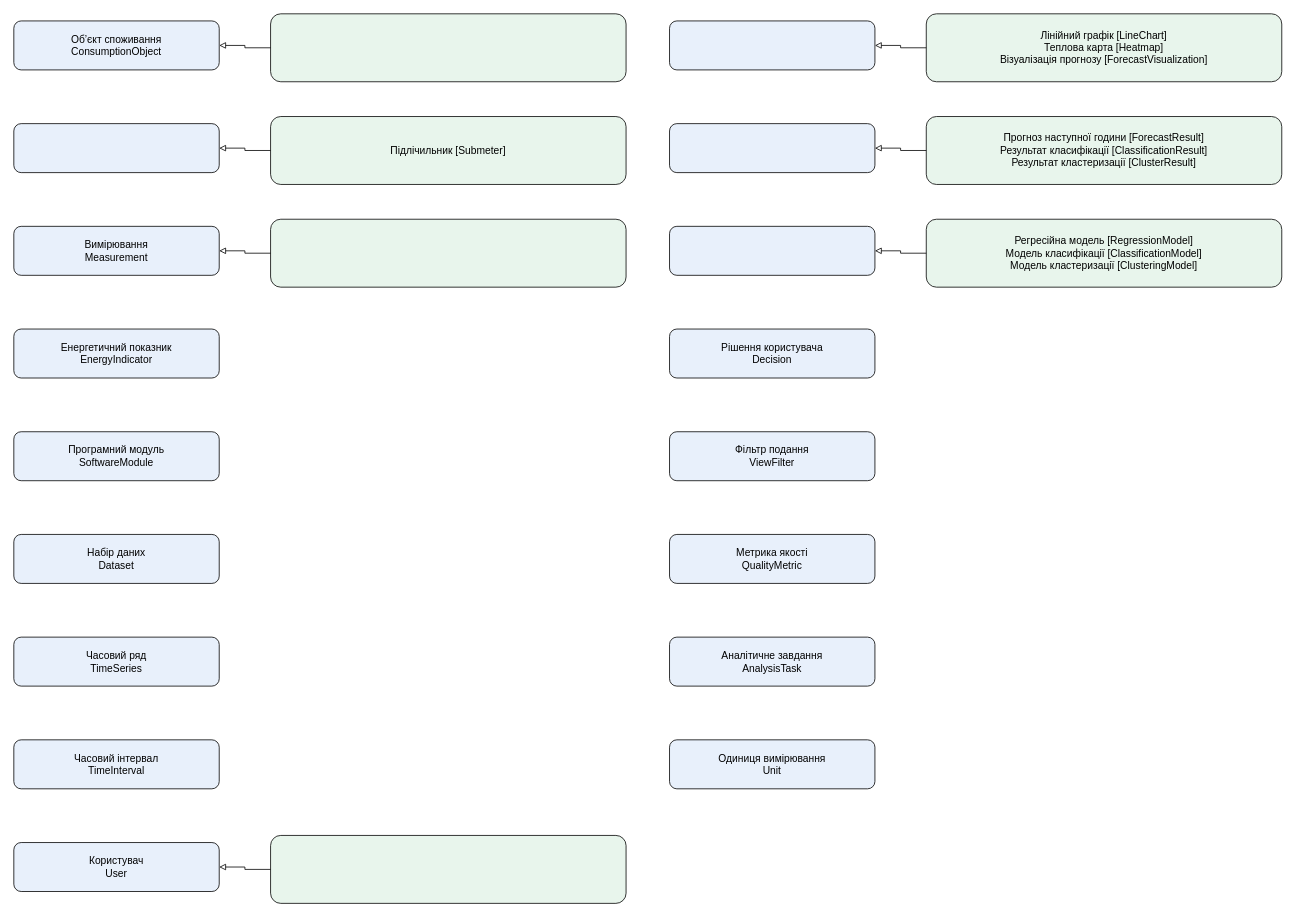
The diagram is 1296 pixels wide and 917 high, and some of its shapes have lost their labels. Each missing label, with the centre of its shape:
"Аналітик [Analyst]" belongs at point 448,869.
"Аналітична модель AnalyticalModel" belongs at point 772,250.
"Вимірювання енергії [EnergyMeasurement]" belongs at point 448,252.
"Візуалізація Visualization" belongs at point 772,45.
"Домогосподарство [Household]" belongs at point 448,47.
"Засіб обліку Meter" belongs at point 116,148.
"Результат аналізу AnalysisResult" belongs at point 772,148.
